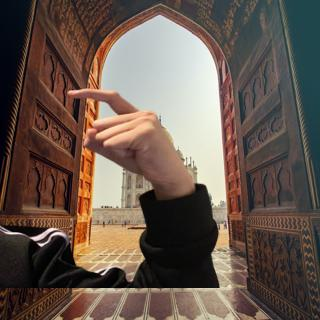WHY: (60, 82, 192, 189)
